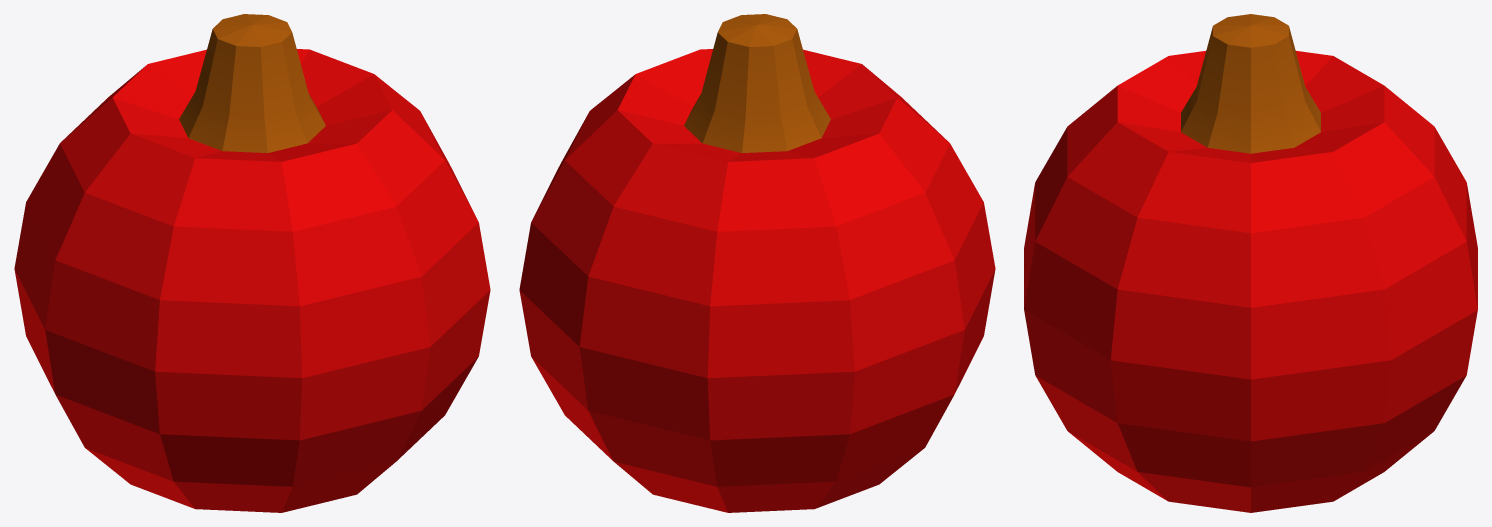
File: apple_new.fbx
The picture shows the model from 3 angles, left to right: view 1: azimuth 30°, elevation 25°; view 2: azimuth 150°, elevation 25°; view 3: azimuth 270°, elevation 25°; orthographic projection.
Parts seen in each view (by area): view 1: pSphere3; view 2: pSphere3; view 3: pSphere3.
Boxes of the visible parts, x1,y1,x2,y2 form: pSphere3: [14, 14, 490, 512]; pSphere3: [519, 14, 995, 512]; pSphere3: [1024, 14, 1477, 512].
Size of the model in its own units: 9.99 by 9.94 by 9.5.
